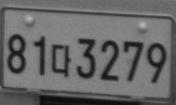1: (30, 34, 50, 75)
2: (100, 39, 119, 82)
3: (75, 37, 97, 79)
7: (122, 40, 143, 82)
8: (7, 32, 26, 73)
9: (146, 41, 167, 83)
다: (51, 43, 72, 77)
